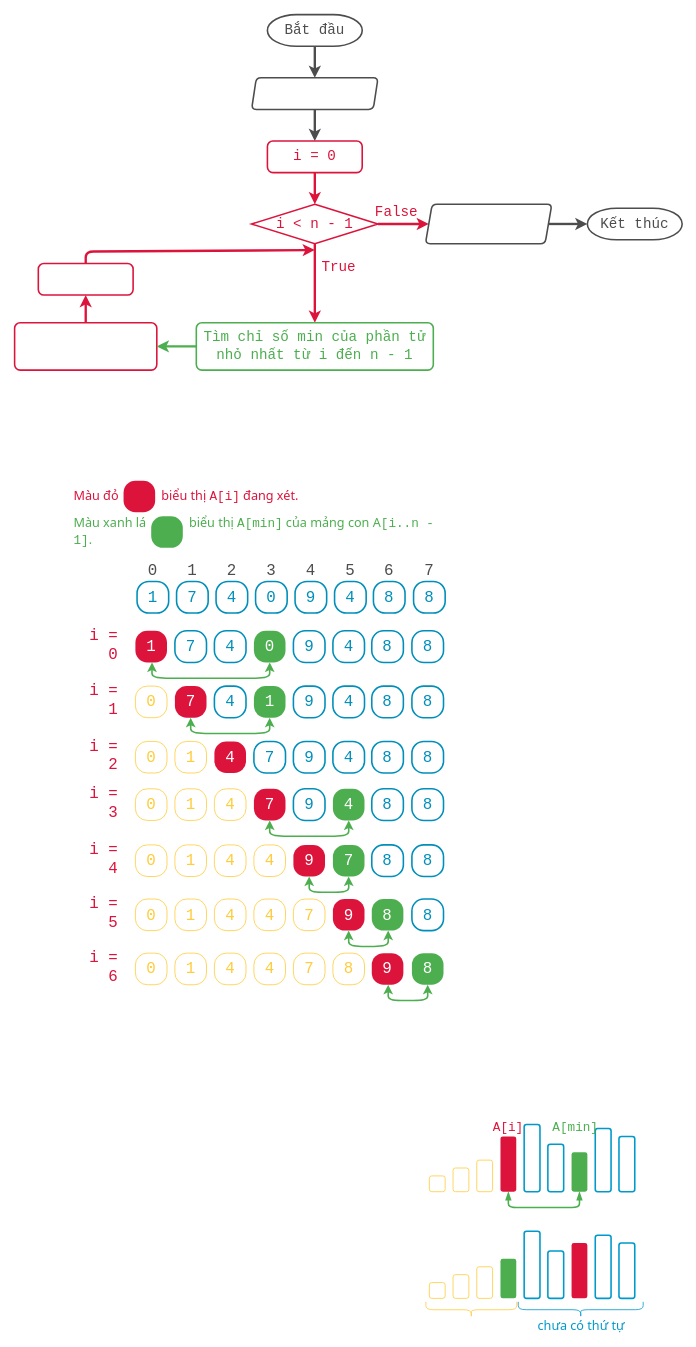
This 696x1347 diagram has some shape labels left out. The shapes that lost their labels are listed below. From the top down, each one's centre as x and y in pixels, then its label:
the point at 314,93: Đầu vào: A, n
the point at 488,223: Đầu ra: A có thứ tự
the point at 85,278: i = i + 1
the point at 85,346: Hoán vị A[i] và A[min]
the point at 471,1309: đã có thứ tự
